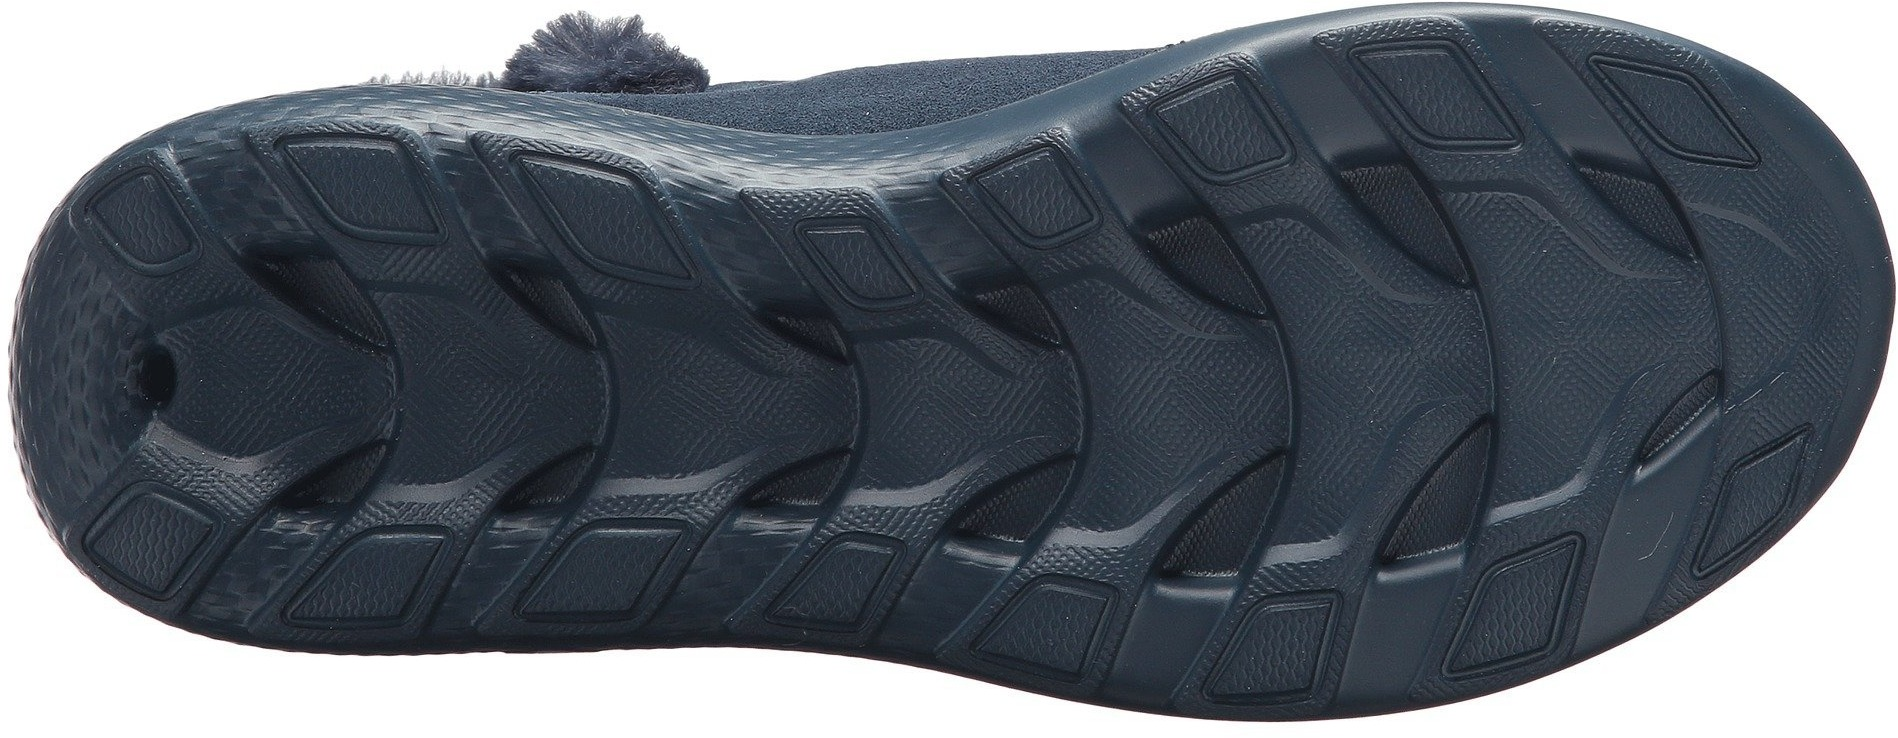chevron: (1241, 192, 1663, 577), (835, 230, 1194, 567), (142, 212, 489, 534)
quad: (523, 500, 679, 644), (525, 158, 684, 299), (1145, 60, 1298, 196), (1201, 580, 1351, 714)
